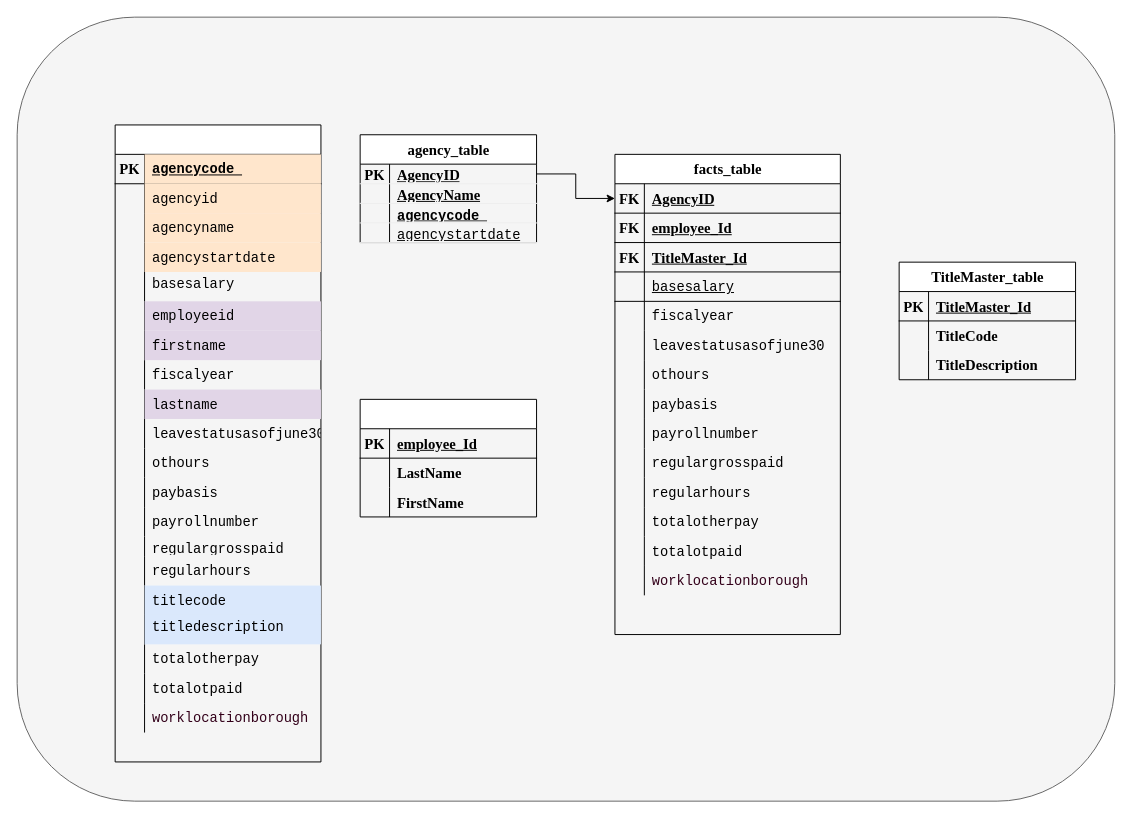
The diagram is 1132 pixels wide and 818 high, and some of its shapes have lost their labels. The shapes that lost their labels are listed below. From the top down, each one's box as (x1, y1, x2, y2) in pixels, then its label:
(114, 124, 321, 762): Mergedpayroll_df
(359, 398, 537, 517): employee_table
